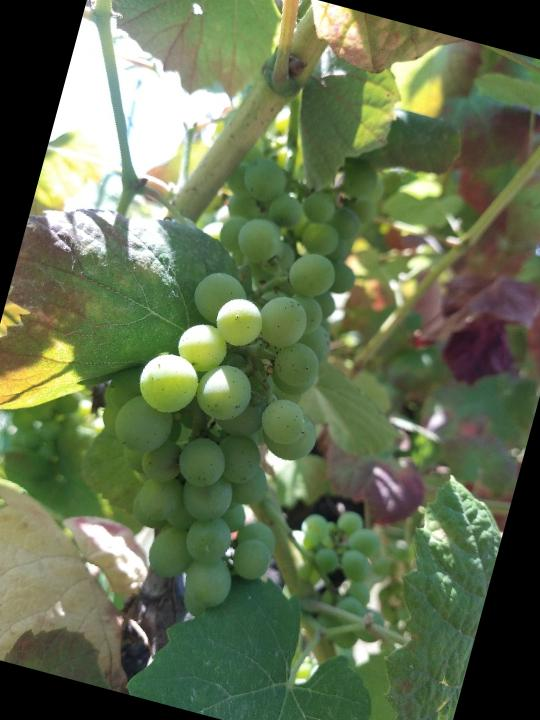grape: (71, 193, 362, 633)
